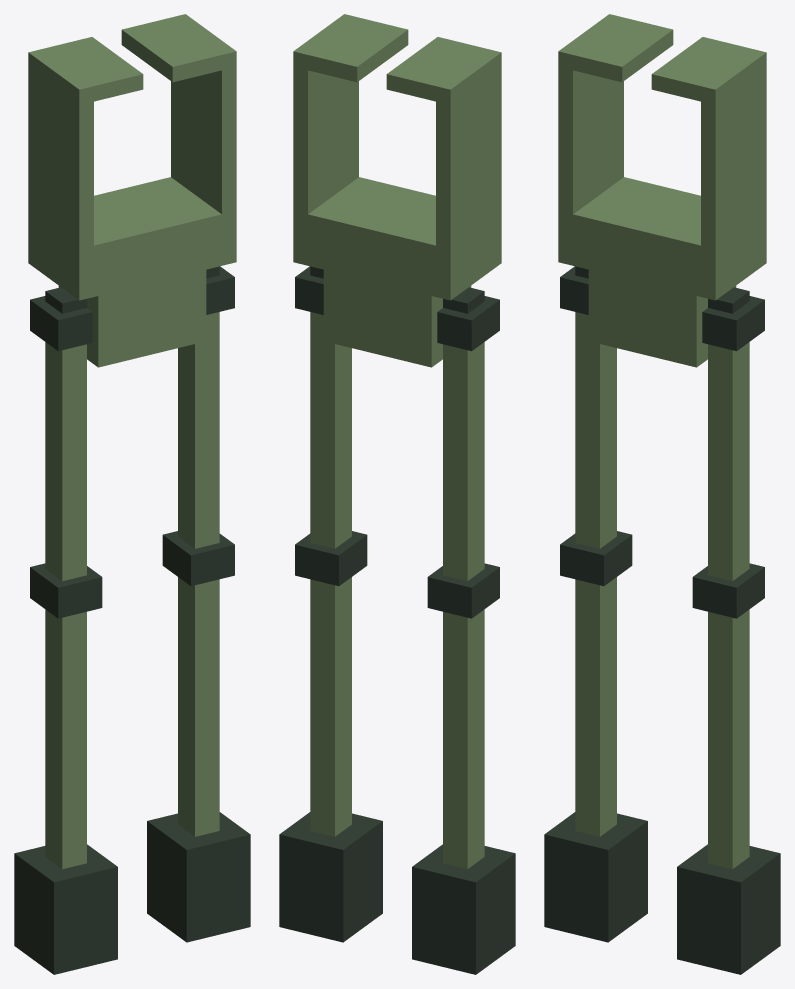
The model's file is mortar_bipod.fbx.
The picture shows the model from 3 angles, left to right: view 1: azimuth 30°, elevation 25°; view 2: azimuth 150°, elevation 25°; view 3: azimuth 330°, elevation 25°; orthographic projection.
Visible parts, largest first — view 1: mortar_bipod_base, mortar_bipod_Rleg1, mortar_bipod_Lleg1, mortar_bipod_Lleg2, mortar_bipod_Rleg2, mortar_bipod_Lleg3, mortar_bipod_Rleg3; view 2: mortar_bipod_base, mortar_bipod_Rleg1, mortar_bipod_Lleg3, mortar_bipod_Rleg3, mortar_bipod_Lleg1, mortar_bipod_Lleg2, mortar_bipod_Rleg2; view 3: mortar_bipod_base, mortar_bipod_Rleg1, mortar_bipod_Lleg1, mortar_bipod_Lleg2, mortar_bipod_Lleg3, mortar_bipod_Rleg2, mortar_bipod_Rleg3.
Boxes of the visible parts, x1,y1,x2,y2 form: mortar_bipod_base: (28,14,236,367); mortar_bipod_Rleg1: (14,287,117,913); mortar_bipod_Lleg1: (147,266,250,880); mortar_bipod_Lleg2: (147,337,250,911); mortar_bipod_Rleg2: (14,367,117,943); mortar_bipod_Lleg3: (147,373,250,942); mortar_bipod_Rleg3: (14,394,117,974); mortar_bipod_base: (293,14,501,367); mortar_bipod_Rleg1: (412,287,515,913); mortar_bipod_Lleg3: (279,362,382,942); mortar_bipod_Rleg3: (412,395,515,974); mortar_bipod_Lleg1: (279,266,382,880); mortar_bipod_Lleg2: (279,338,382,911); mortar_bipod_Rleg2: (412,364,515,943); mortar_bipod_base: (558,14,766,367); mortar_bipod_Rleg1: (544,266,647,880); mortar_bipod_Lleg1: (677,287,780,913); mortar_bipod_Lleg2: (677,364,780,943); mortar_bipod_Lleg3: (677,394,780,974); mortar_bipod_Rleg2: (544,346,647,911); mortar_bipod_Rleg3: (544,532,647,942).
Bounding box in the file's own units: 24 × 103 × 10.8.
